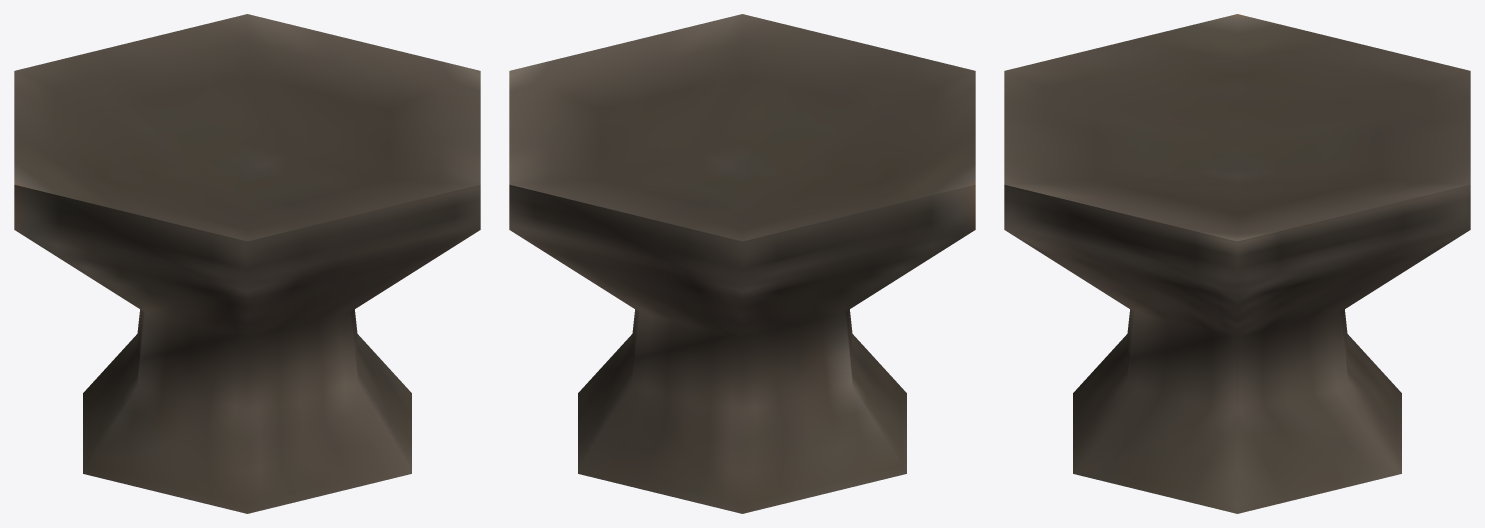
File: candle_stick.FBX
The picture shows the model from 3 angles, left to right: view 1: azimuth 30°, elevation 25°; view 2: azimuth 150°, elevation 25°; view 3: azimuth 270°, elevation 25°; orthographic projection.
Visible parts, largest first — view 1: Object117; view 2: Object117; view 3: Object117.
Part boxes in pixels (box(x1,y1,x2,y2)): Object117: box(14, 14, 480, 513); Object117: box(509, 14, 975, 513); Object117: box(1004, 14, 1470, 513).
Bounding box in the file's own units: 0.1053 × 0.066 × 0.0912.
